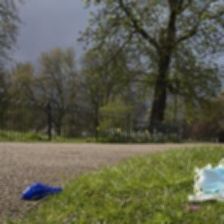plastic_bag: (16, 174, 68, 205)
